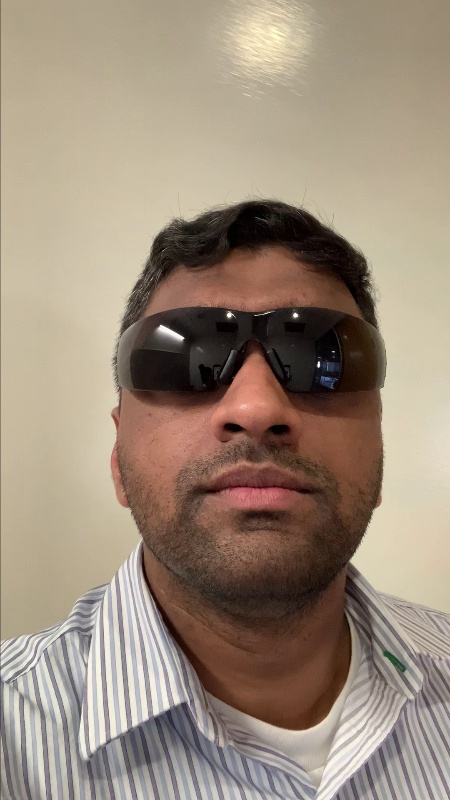glasses: (94, 301, 408, 416)
